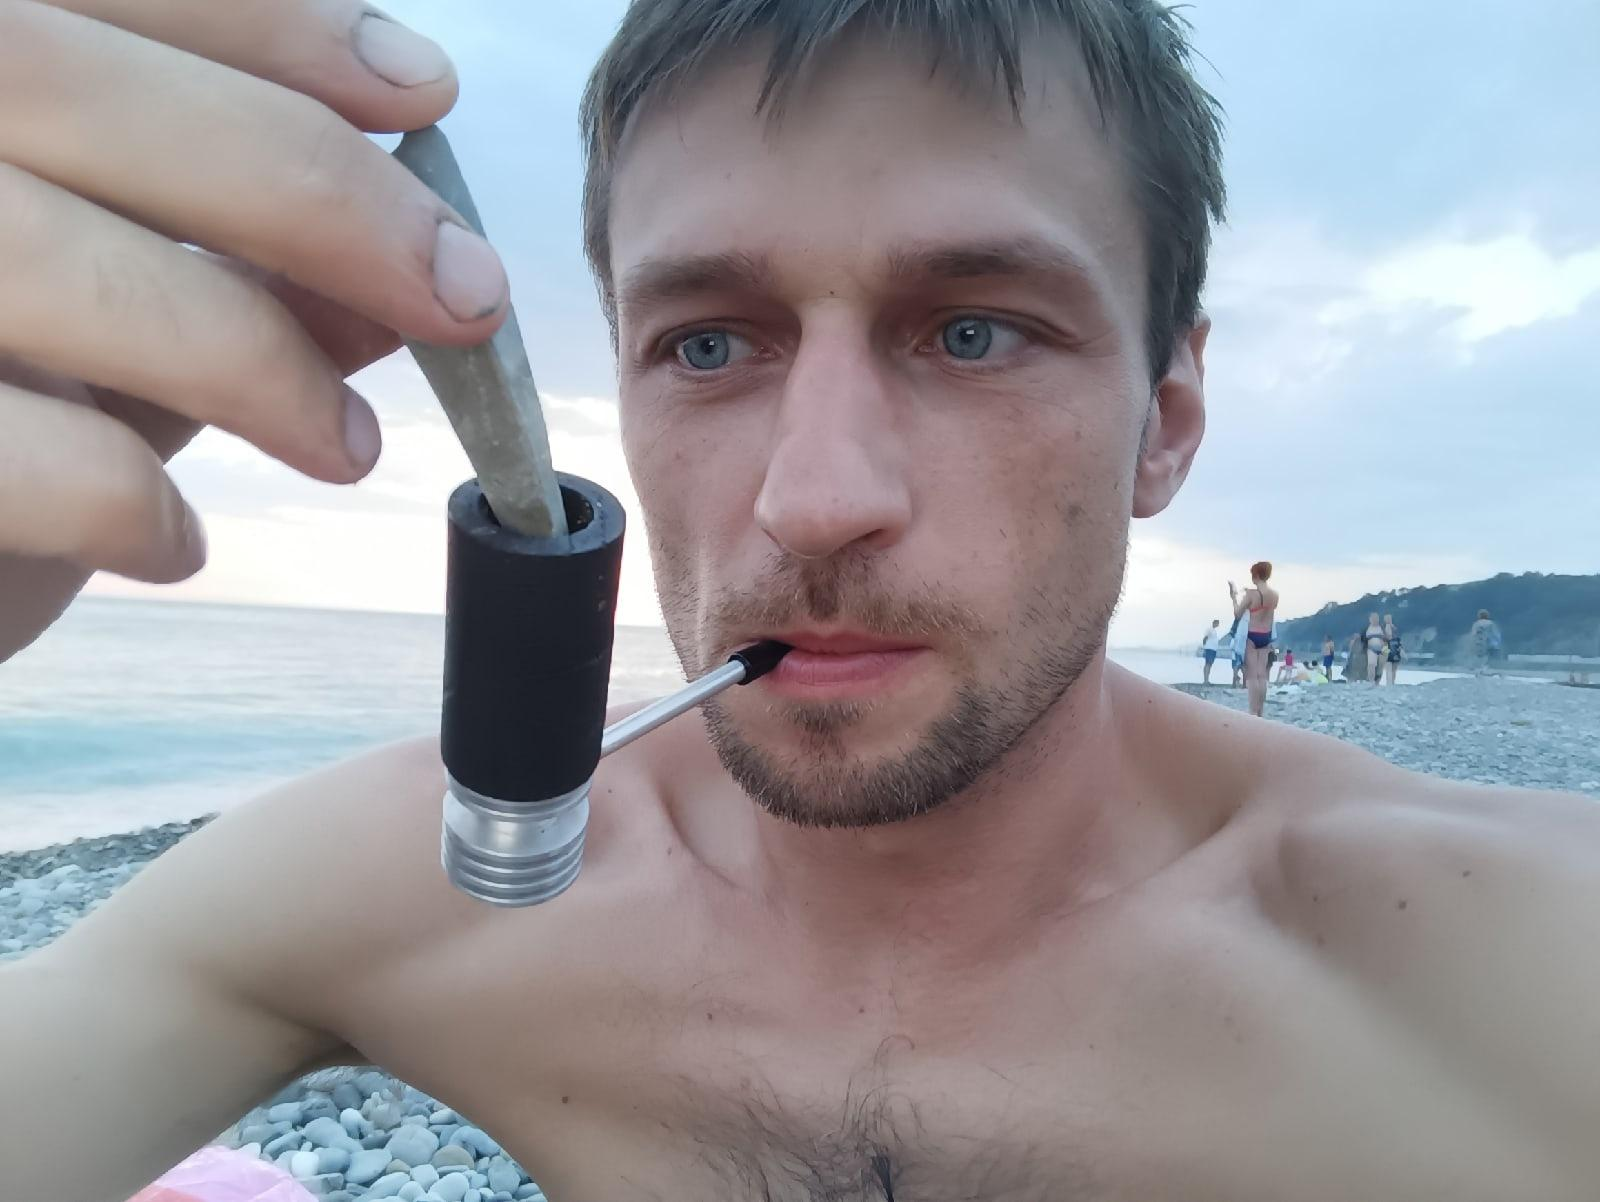trubka: (439, 473, 791, 907)
